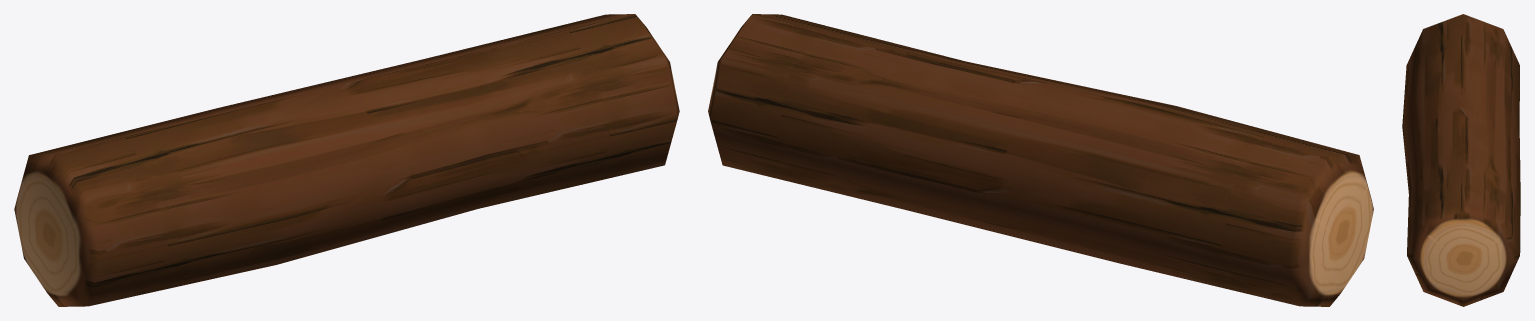
Rendered from log_001.fbx.
3 renders of one model, left to right at view 1: azimuth 30°, elevation 25°; view 2: azimuth 150°, elevation 25°; view 3: azimuth 270°, elevation 25°, orthographic. The views are drawn at different scales.
Visible parts, largest first — view 1: log_001; view 2: log_001; view 3: log_001.
Part boxes in pixels (box(x1,y1,x2,y2)): log_001: box(14, 14, 679, 306); log_001: box(708, 14, 1373, 306); log_001: box(1402, 14, 1520, 306).
Size of the model in its own units: 315 by 79.72 by 79.02.
